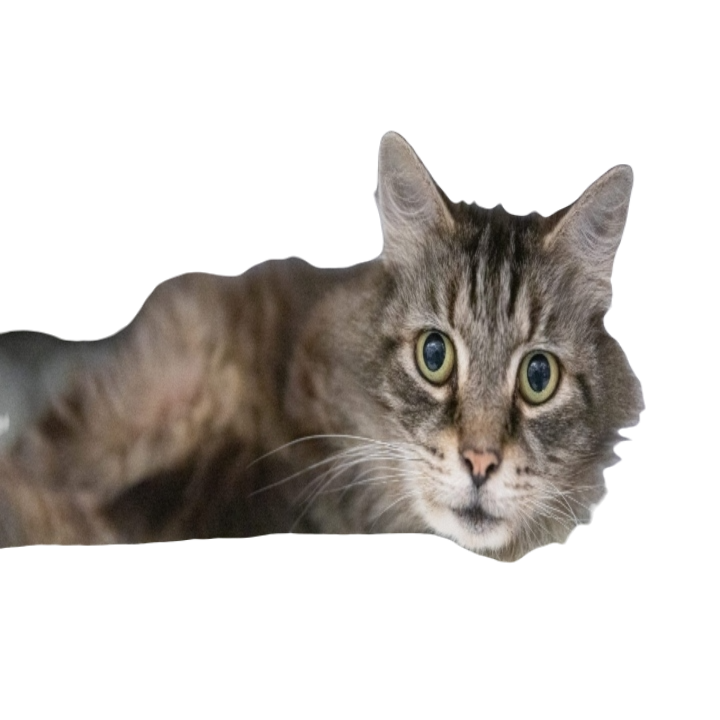Cat: (1, 130, 694, 565)
